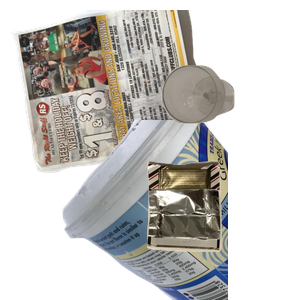glass: (159, 63, 300, 179)
paper: (10, 10, 210, 175)
plastic: (60, 120, 300, 300)
trash: (144, 158, 300, 300)
